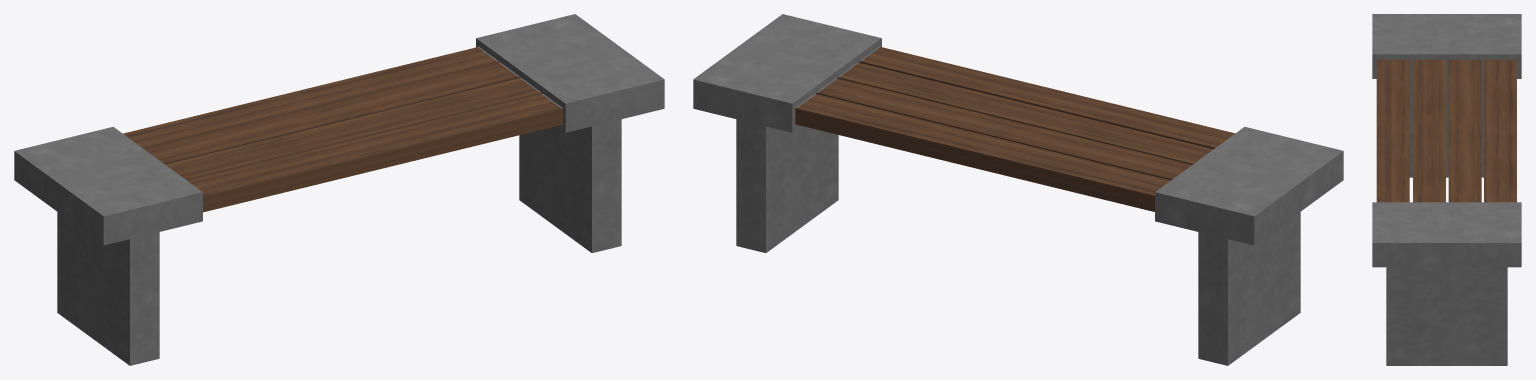
File: Bench.fbx
The picture shows the model from 3 angles, left to right: view 1: azimuth 30°, elevation 25°; view 2: azimuth 150°, elevation 25°; view 3: azimuth 270°, elevation 25°; orthographic projection. The views are drawn at different scales.
Visible parts, largest first — view 1: Wood, Concrete1, Concrete; view 2: Wood, Concrete1, Concrete; view 3: Concrete, Wood, Concrete1.
Part boxes in pixels (bbox=[...]): Wood: bbox=[123, 47, 562, 212]; Concrete1: bbox=[14, 126, 202, 365]; Concrete: bbox=[476, 14, 664, 252]; Wood: bbox=[795, 46, 1234, 211]; Concrete1: bbox=[1155, 126, 1343, 365]; Concrete: bbox=[693, 14, 881, 252]; Concrete: bbox=[1372, 202, 1521, 365]; Wood: bbox=[1376, 59, 1516, 202]; Concrete1: bbox=[1372, 14, 1521, 177].
Bounding box in the file's own units: 181 × 50.61 × 50.
